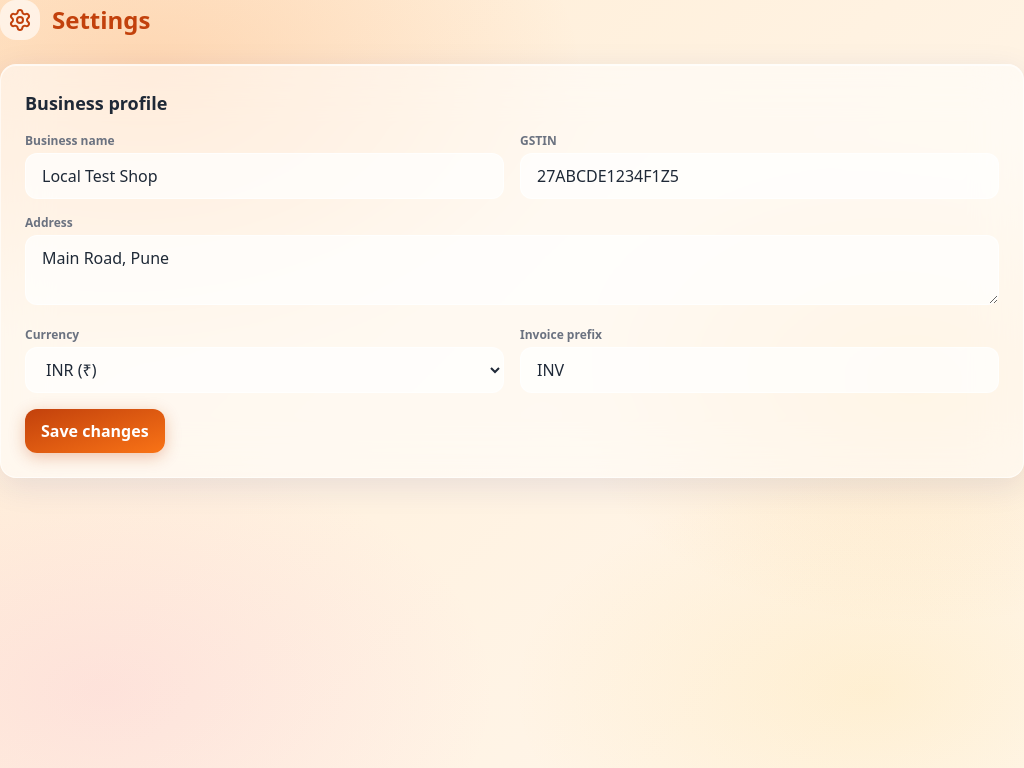
Test: Settings page › saves the updated business profile
The width and height of the screenshot is (1024, 768).
Replace the text in the field labelled "Business name" with "New Shop Name" at (264, 176), box [25, 153, 504, 199]
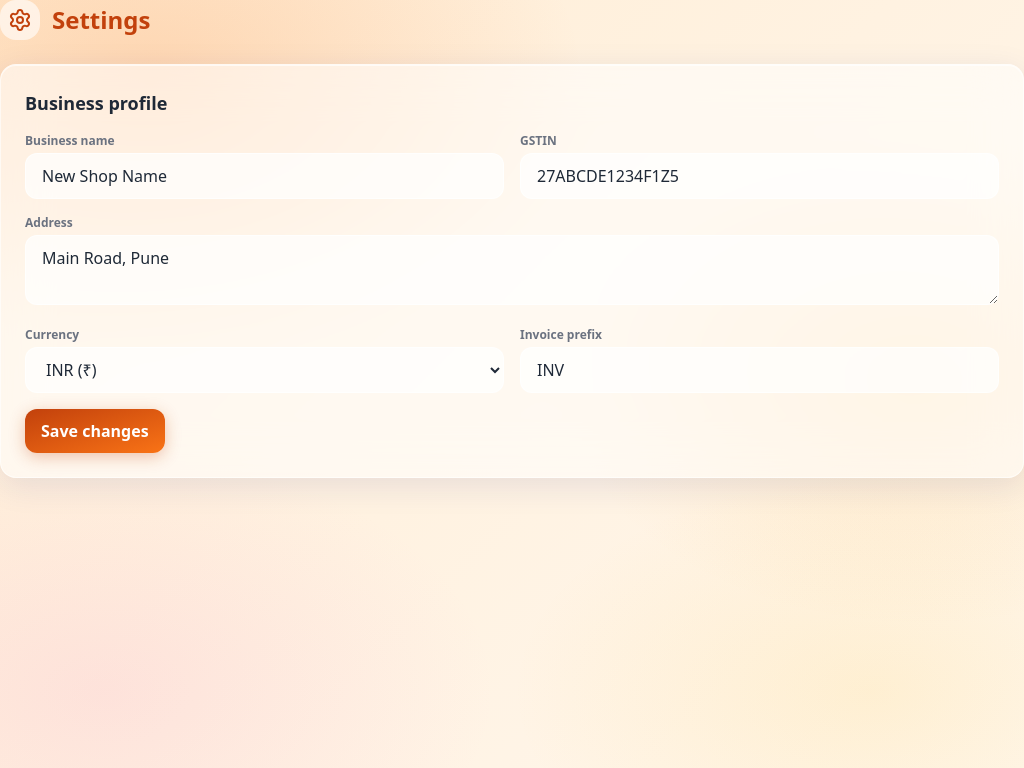
Click the button "Save changes" at (95, 431), box [25, 409, 165, 453]
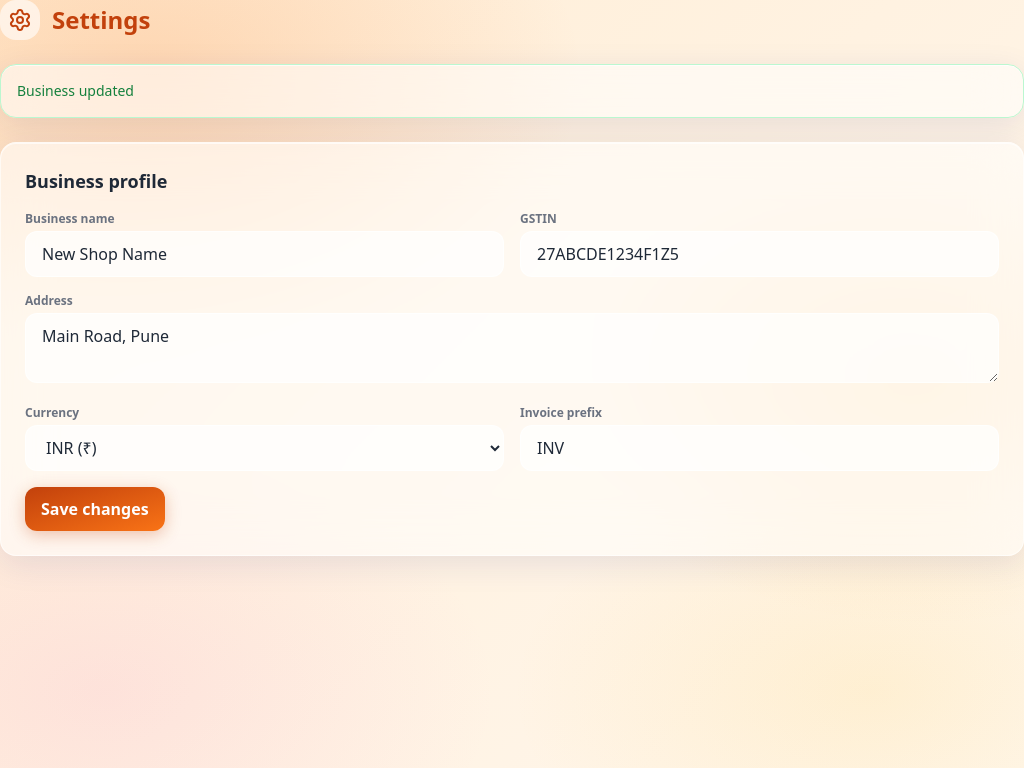
Now the text "Business updated" is shown, box [0, 64, 1023, 118]
